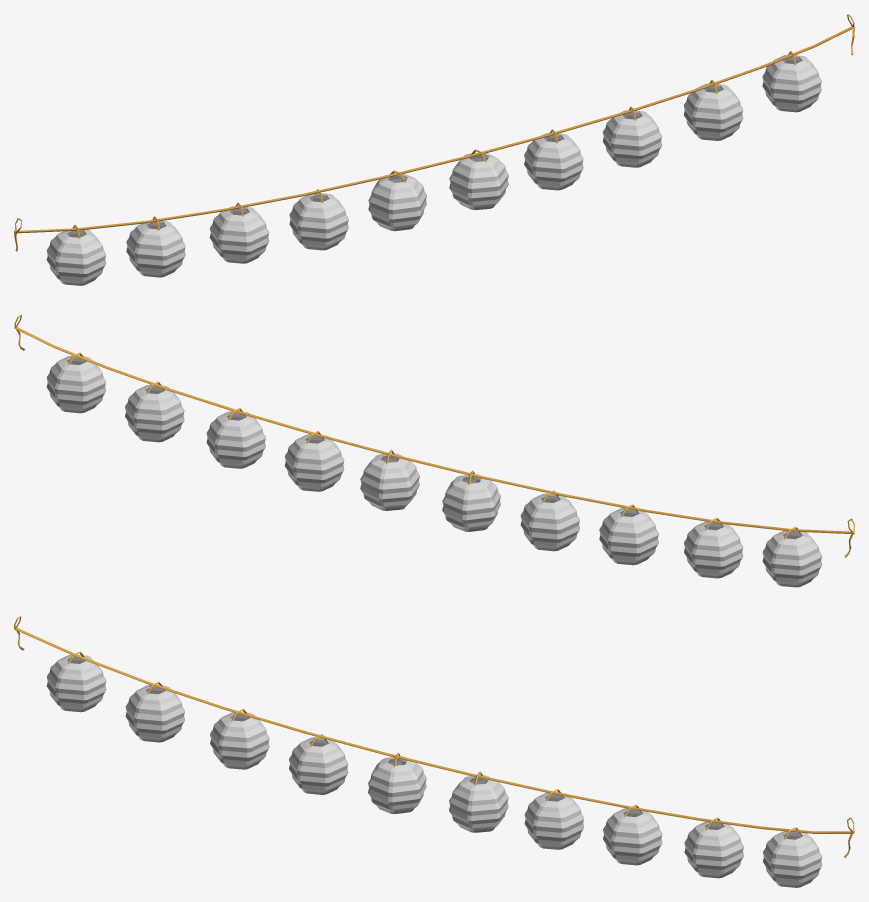
Rendered from lanterns-on-string-5m.fbx.
3 views of the same model, one above another, from view 1: azimuth 30°, elevation 25°; view 2: azimuth 150°, elevation 25°; view 3: azimuth 330°, elevation 25° (orthographic).
Visible parts, largest first — view 1: lanterns-on-string-5m; view 2: lanterns-on-string-5m; view 3: lanterns-on-string-5m.
Boxes of the visible parts, x1,y1,x2,y2 form: lanterns-on-string-5m: [14, 14, 854, 285]; lanterns-on-string-5m: [14, 314, 854, 587]; lanterns-on-string-5m: [14, 616, 854, 887].
Size of the model in its own units: 5 by 0.5732 by 0.3126.
